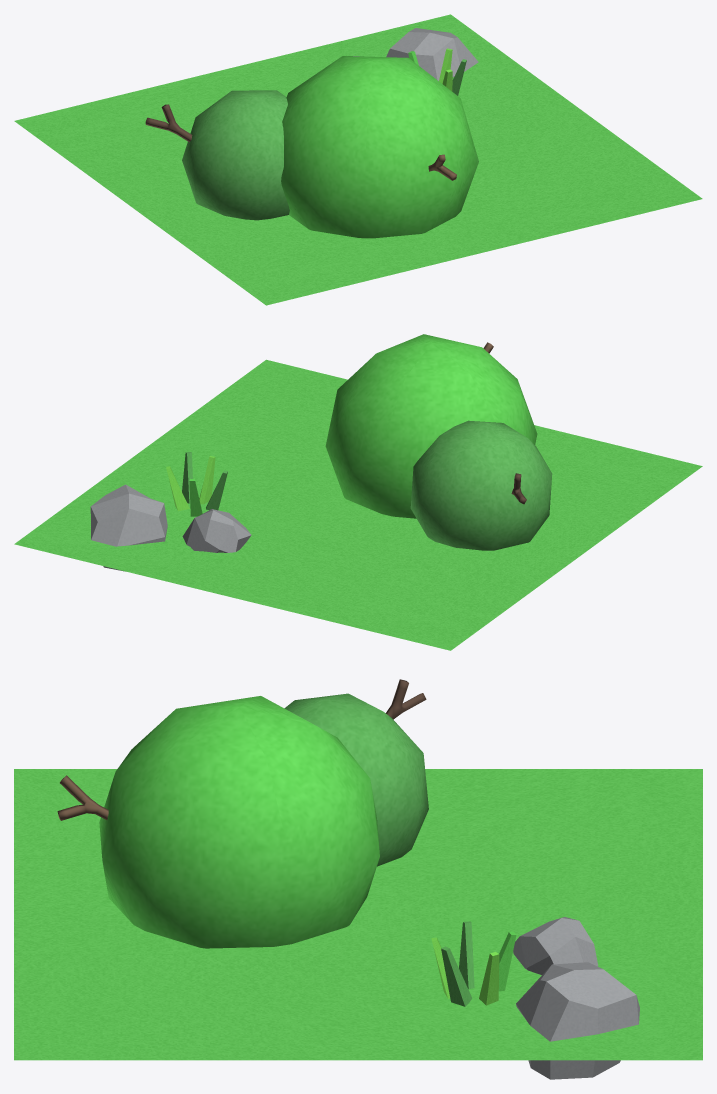
File: park_2.fbx
3 views of the same model, one above another, from view 1: azimuth 30°, elevation 25°; view 2: azimuth 150°, elevation 25°; view 3: azimuth 270°, elevation 25° (orthographic). The views are drawn at different scales.
Visible parts, largest first — view 1: park_green.011, small_bush.001, stone.012, grass.026; view 2: park_green.011, small_bush.001, stone.012, stone.013, grass.026; view 3: park_green.011, small_bush.001, stone.012, grass.026, stone.013.
Part boxes in pixels (x1,y1,x2,y2): park_green.011: (14,14,702,305); small_bush.001: (145,56,478,238); stone.012: (386,28,478,80); grass.026: (408,48,466,95); park_green.011: (14,359,702,650); small_bush.001: (325,334,552,550); stone.012: (90,484,167,571); stone.013: (182,509,251,552); grass.026: (166,452,227,516); park_green.011: (14,769,702,1060); small_bush.001: (57,679,428,948); stone.012: (516,962,639,1079); grass.026: (431,921,516,1006); stone.013: (513,917,598,974).
Size of the model in its own units: 2 by 0.8479 by 2.
Materials: 2 (2 with a texture image).
